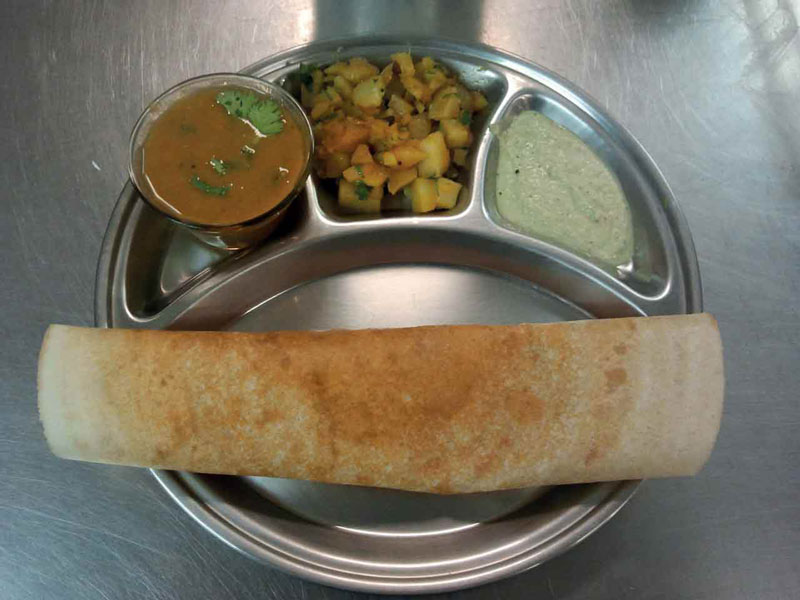dosa: (34, 309, 729, 500)
